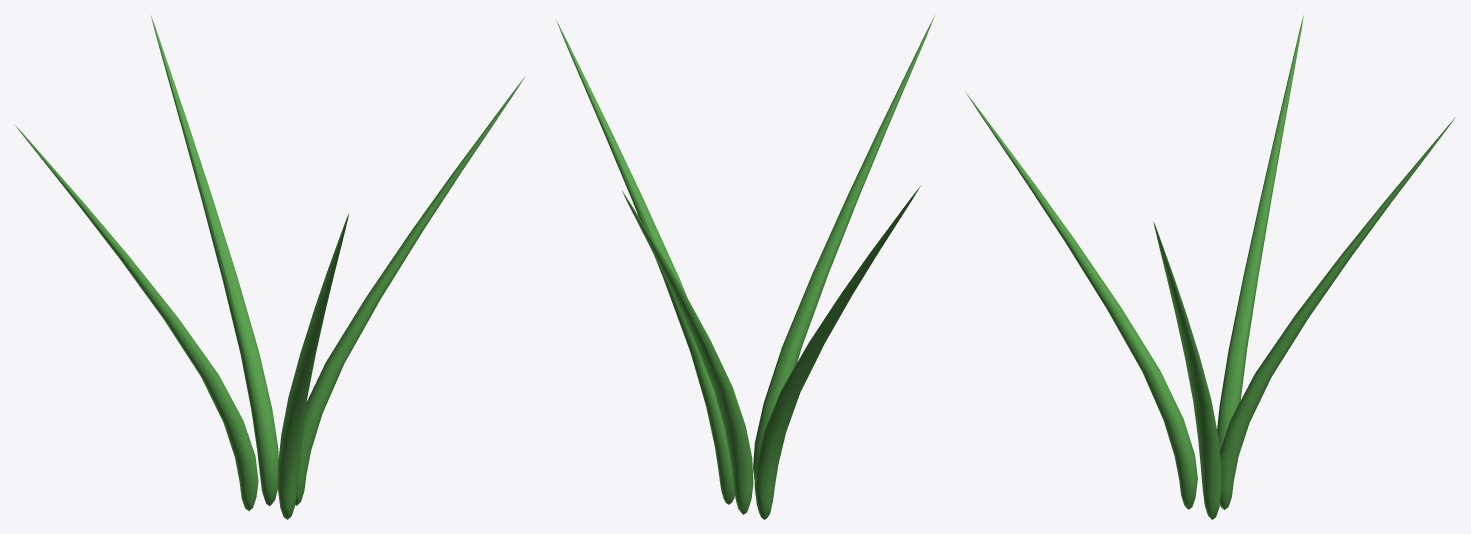
The model's file is Grass 5.fbx.
The picture shows the model from 3 angles, left to right: view 1: azimuth 30°, elevation 25°; view 2: azimuth 150°, elevation 25°; view 3: azimuth 270°, elevation 25°; orthographic projection. The views are drawn at different scales.
Visible parts, largest first — view 1: Cube; view 2: Cube; view 3: Cube.
Part boxes in pixels (x1=…): Cube: x1=15, y1=16, x2=525, y2=519; Cube: x1=556, y1=15, x2=934, y2=519; Cube: x1=965, y1=16, x2=1455, y2=519.
Size of the model in its own units: 60.73 by 54 by 61.12.
